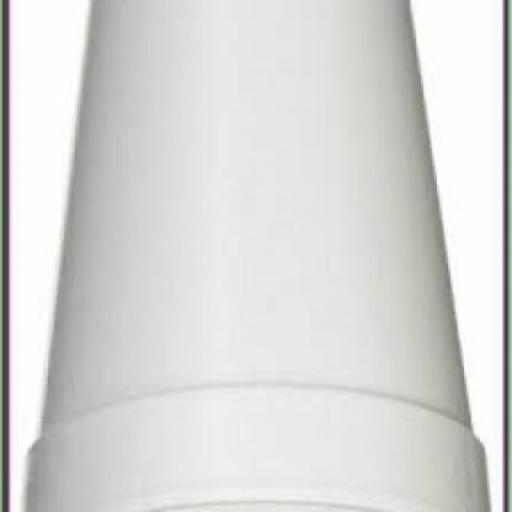paper: (24, 2, 494, 511)
